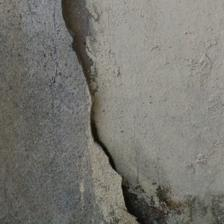Crack: (58, 4, 139, 222), (124, 183, 222, 222)
